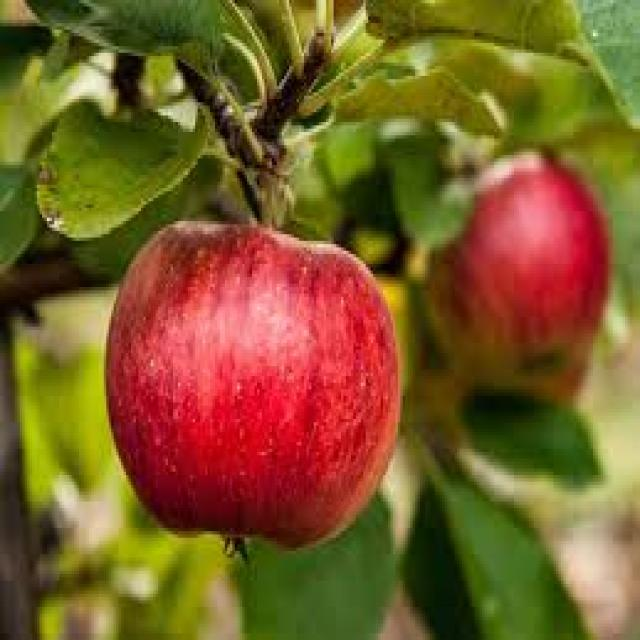apple: (101, 202, 408, 556)
